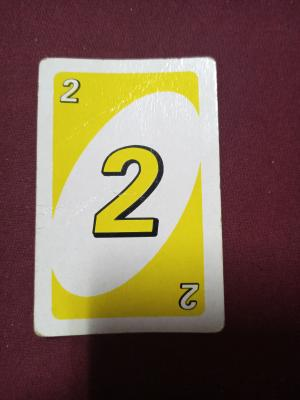num_2: (91, 142, 179, 261)
yellow: (45, 66, 95, 116)
